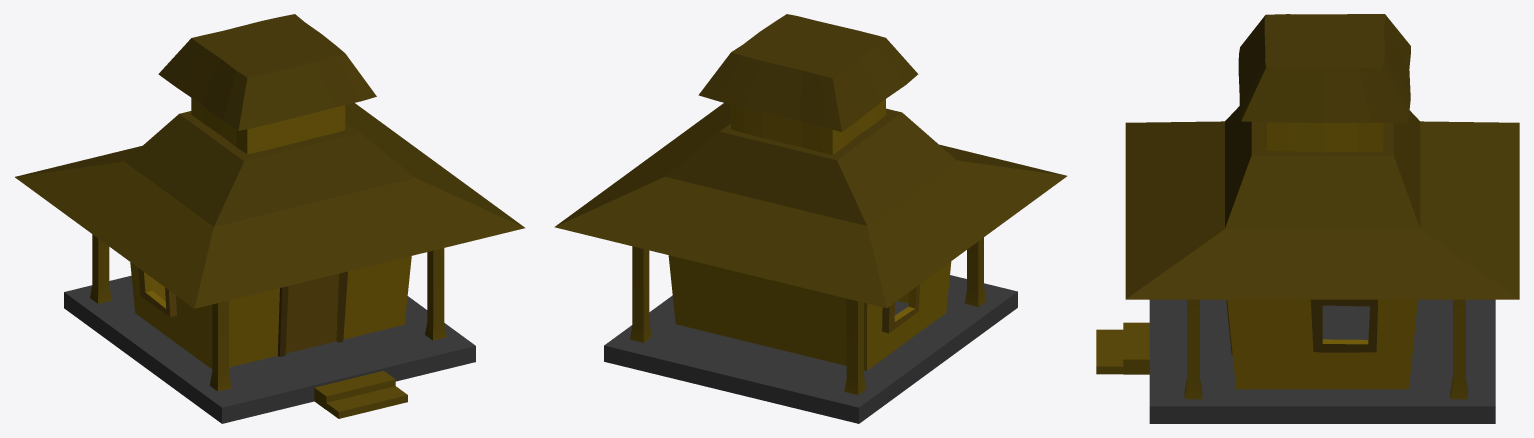
Rendered from Rumah joglo.fbx.
3 renders of one model, left to right at view 1: azimuth 30°, elevation 25°; view 2: azimuth 150°, elevation 25°; view 3: azimuth 270°, elevation 25°, orthographic. The views are drawn at different scales.
Visible parts, largest first — view 1: pCube1, pasted__pasted__pCube2, pasted__pCube2, pasted__pCube3, pCube3, pCube2; view 2: pCube1, pasted__pCube2 (×2), pCube2; view 3: pCube1, pasted__pCube3, pasted__pasted__pCube2, pasted__pCube2, pCube3.
Boxes of the visible parts, <box> form: pCube1: <box>15,14,524,423</box>; pasted__pasted__pCube2: <box>425,248,446,340</box>; pasted__pCube2: <box>209,300,231,391</box>; pasted__pCube3: <box>314,370,395,409</box>; pCube3: <box>326,386,407,418</box>; pCube2: <box>90,234,111,303</box>; pCube1: <box>554,14,1066,423</box>; pasted__pCube2 (×2): <box>630,237,986,342</box>; pCube2: <box>844,298,866,394</box>; pCube1: <box>1125,14,1519,423</box>; pasted__pCube3: <box>1123,322,1149,374</box>; pasted__pasted__pCube2: <box>1184,299,1202,399</box>; pasted__pCube2: <box>1450,299,1467,399</box>; pCube3: <box>1096,329,1124,374</box>.
Size of the model in its own units: 14.81 by 12.32 by 14.98.
